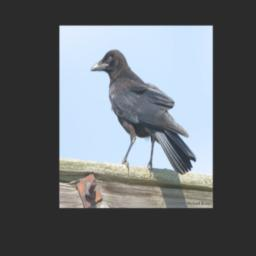Crow: (90, 49, 197, 175)
